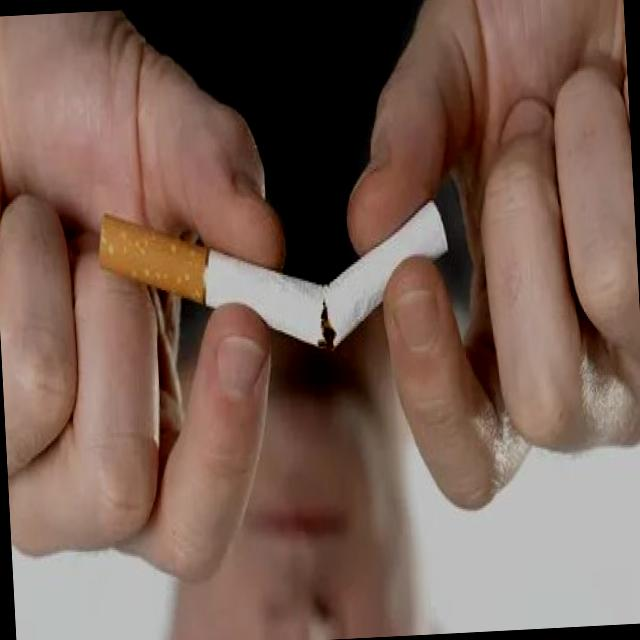smoke: (91, 186, 454, 376)
